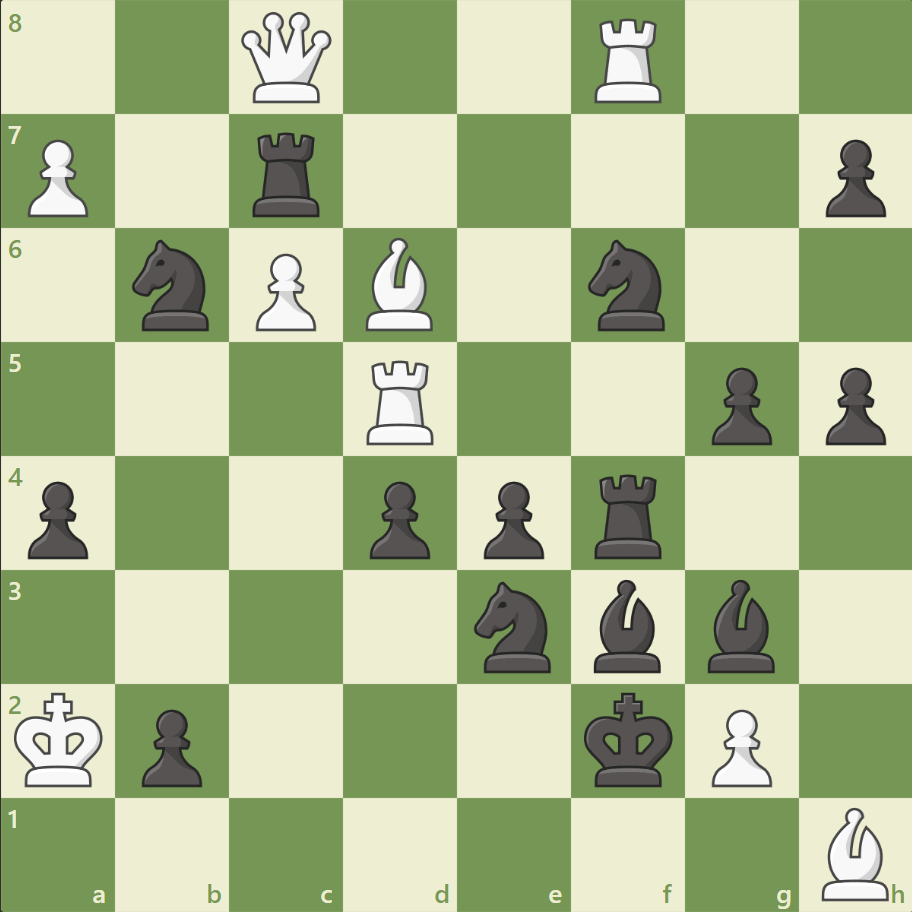B: (358, 233, 442, 336), (812, 801, 896, 904)
K: (11, 685, 111, 793)
P: (20, 132, 95, 223), (247, 246, 322, 337), (701, 700, 776, 791)
Q: (237, 9, 336, 108)
R: (587, 12, 670, 109), (360, 352, 442, 449)
b: (585, 574, 669, 676), (698, 574, 782, 676)
k: (579, 685, 679, 793)
n: (124, 234, 222, 337), (579, 234, 676, 337), (465, 575, 562, 677)
p: (701, 359, 776, 450), (20, 473, 95, 564), (474, 473, 549, 564), (133, 700, 208, 791), (815, 132, 889, 223), (815, 359, 889, 450), (361, 473, 435, 564)
r: (246, 125, 329, 222), (587, 466, 670, 563)
